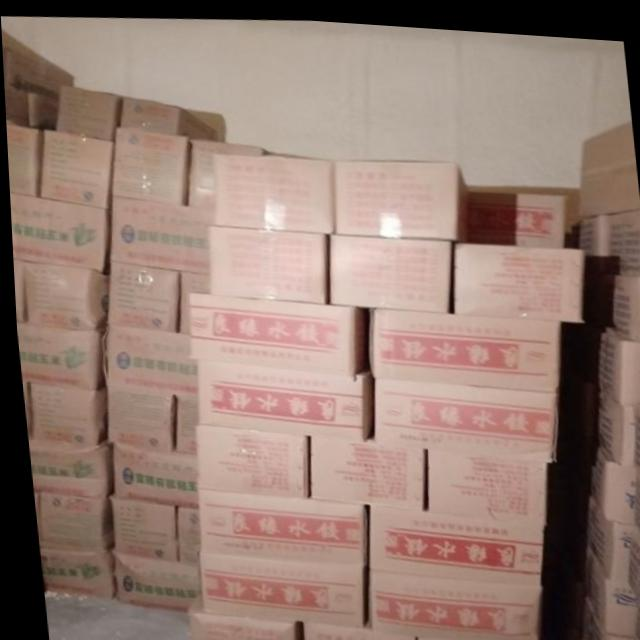box: (364, 303, 560, 384), (368, 373, 556, 455), (185, 289, 367, 369), (193, 357, 370, 437), (361, 500, 541, 578), (361, 565, 533, 637), (194, 551, 361, 625), (191, 487, 361, 559), (332, 155, 468, 236), (451, 236, 582, 315), (211, 149, 333, 230), (200, 221, 327, 298), (326, 230, 450, 307), (304, 430, 423, 505), (423, 444, 544, 516), (106, 195, 214, 274), (192, 421, 305, 495), (8, 191, 107, 270), (96, 320, 195, 396), (104, 261, 206, 332), (1, 30, 72, 130), (11, 259, 104, 332), (108, 124, 190, 204), (14, 320, 103, 390), (577, 111, 639, 210), (36, 130, 112, 210), (464, 184, 566, 241), (106, 440, 192, 507), (185, 137, 266, 207), (20, 383, 105, 445), (24, 436, 109, 497), (106, 553, 196, 609), (29, 493, 111, 553), (181, 600, 296, 640), (102, 386, 171, 450), (117, 95, 214, 140), (104, 498, 173, 561), (583, 545, 632, 627), (35, 547, 111, 597), (584, 491, 630, 573), (56, 83, 120, 141), (596, 325, 640, 401), (584, 447, 631, 518), (574, 591, 633, 640), (5, 123, 41, 197), (596, 385, 632, 458), (606, 199, 640, 269), (295, 620, 410, 640), (609, 264, 640, 333), (622, 518, 640, 613), (170, 393, 195, 453), (170, 504, 194, 566), (576, 205, 610, 248), (409, 633, 526, 640), (630, 398, 640, 471), (630, 464, 640, 532), (627, 600, 640, 640)
